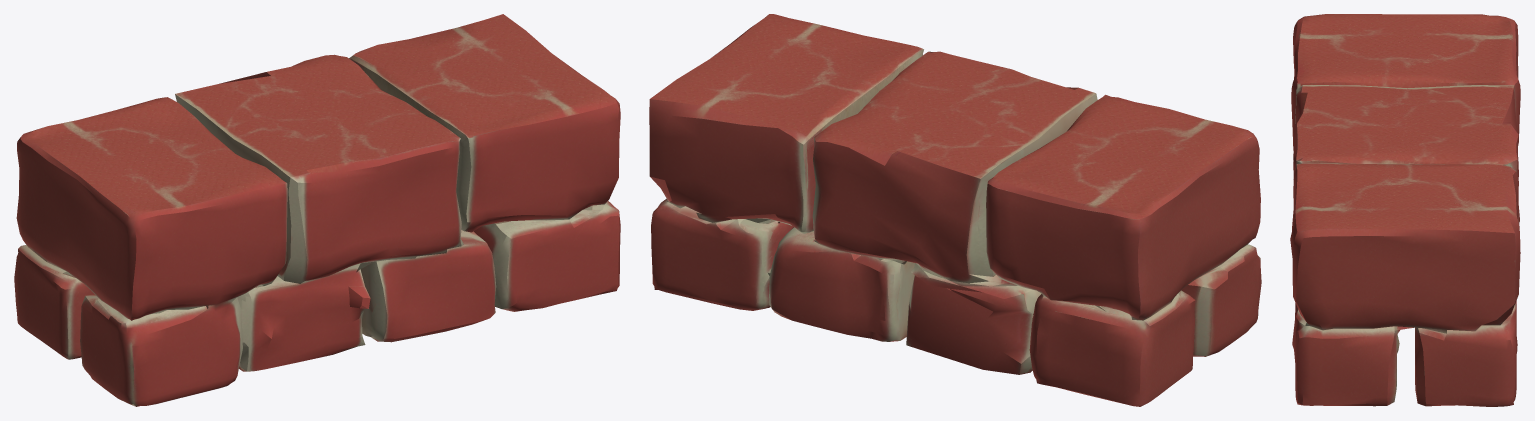
File: brick_double_redbrick.glb
3 views of the same model, side by side, from view 1: azimuth 30°, elevation 25°; view 2: azimuth 150°, elevation 25°; view 3: azimuth 270°, elevation 25° (orthographic). The views are drawn at different scales.
Visible parts, largest first — view 1: Mesh_0; view 2: Mesh_0; view 3: Mesh_0.
Part boxes in pixels (left/top/right/bottom): Mesh_0: left=14, top=14, right=620, bottom=406; Mesh_0: left=649, top=14, right=1261, bottom=406; Mesh_0: left=1290, top=14, right=1520, bottom=406.
Size of the model in its own units: 1.9 by 0.7054 by 0.8302.
Materials: 1 (1 with a texture image).
